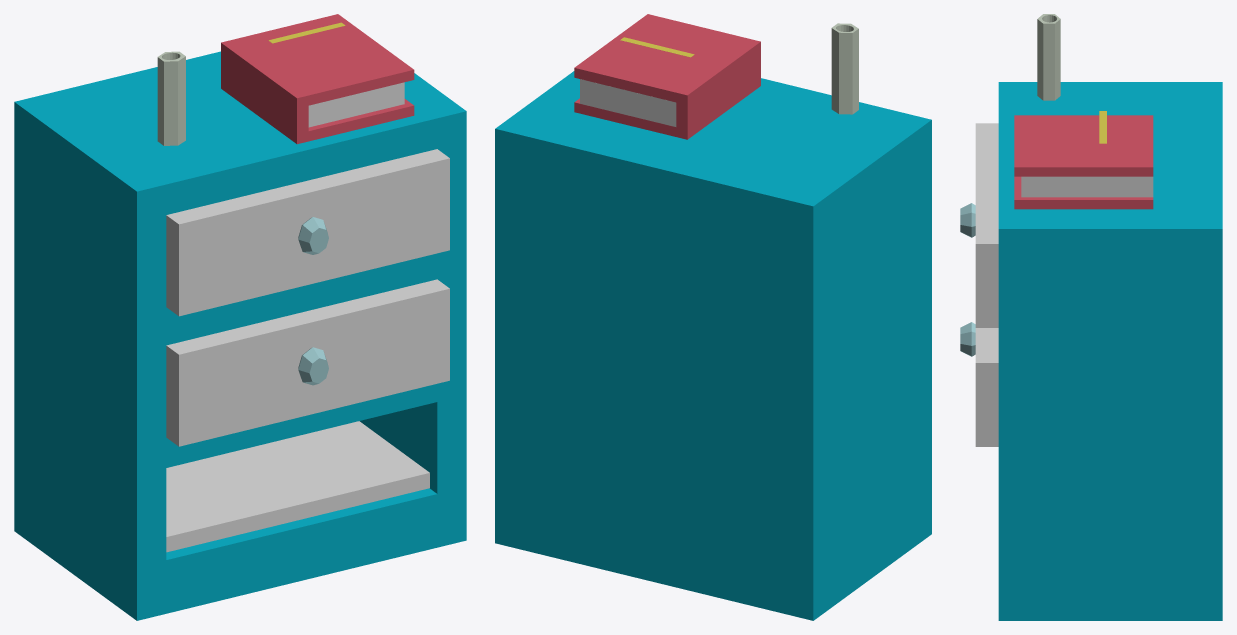
File: Project 149.glb
3 views of the same model, side by side, from view 1: azimuth 30°, elevation 25°; view 2: azimuth 150°, elevation 25°; view 3: azimuth 270°, elevation 25° (orthographic). The views are drawn at different scales.
Parts seen in each view (by area): view 1: Mesh_Mesh_head_geo.001_lambert2SG.001; view 2: Mesh_Mesh_head_geo.001_lambert2SG.001; view 3: Mesh_Mesh_head_geo.001_lambert2SG.001.
Boxes of the visible parts, <box> form: Mesh_Mesh_head_geo.001_lambert2SG.001: <box>14,14,466,620</box>; Mesh_Mesh_head_geo.001_lambert2SG.001: <box>495,14,931,620</box>; Mesh_Mesh_head_geo.001_lambert2SG.001: <box>960,14,1222,620</box>.
Bounding box in the file's own units: 45 × 69 × 34.
